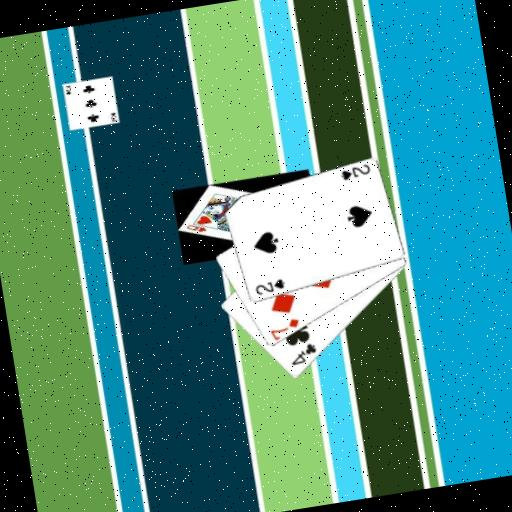2S: (336, 160, 373, 182), (251, 275, 287, 297)
4C: (285, 339, 320, 368)
7D: (265, 314, 303, 341)
